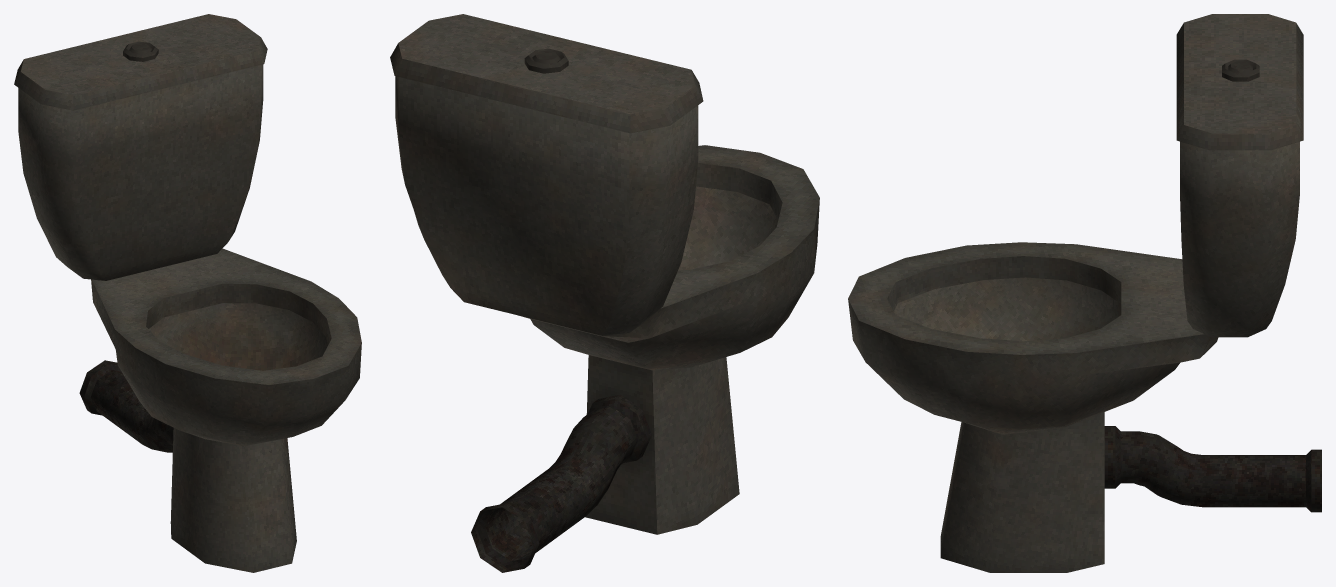
File: toilet_mp_1.glb
3 renders of one model, left to right at view 1: azimuth 30°, elevation 25°; view 2: azimuth 150°, elevation 25°; view 3: azimuth 270°, elevation 25°, orthographic. The views are drawn at different scales.
Parts seen in each view (by area): view 1: toilet_mp_1; view 2: toilet_mp_1; view 3: toilet_mp_1.
Part boxes in pixels (x1,y1,x2,y2): toilet_mp_1: (14,14,361,572); toilet_mp_1: (390,14,819,572); toilet_mp_1: (848,14,1321,572).
Size of the model in its own units: 0.5624 by 1.01 by 0.8968.
Materials: 1 (1 with a texture image).
